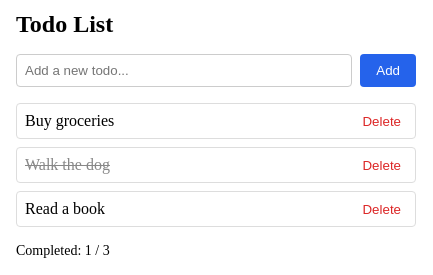
Scenario: TodoList Component › deletes a todo
Click the button with aria-label "Delete Walk the dog" at (382, 165), box [356,157,407,174]
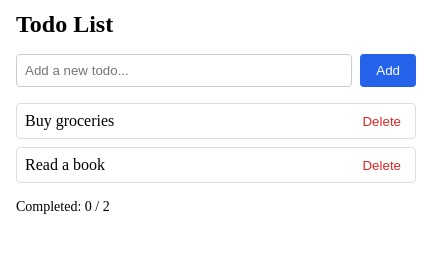
Check: the text "Walk the dog" is gone
